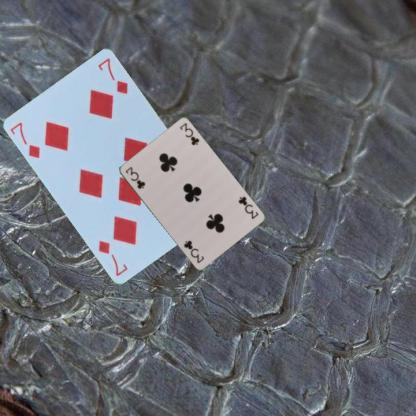3c: (235, 194, 260, 221), (123, 164, 146, 190)
7d: (8, 119, 42, 160)
